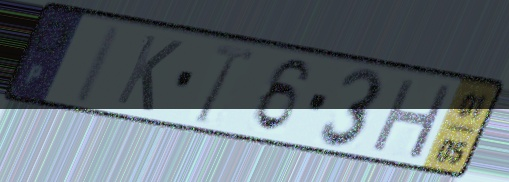3: (317, 66, 389, 151)
6: (250, 56, 315, 136)
H: (366, 74, 458, 162)
I: (68, 21, 128, 108)
K: (111, 30, 187, 115)
T: (191, 40, 259, 126)
